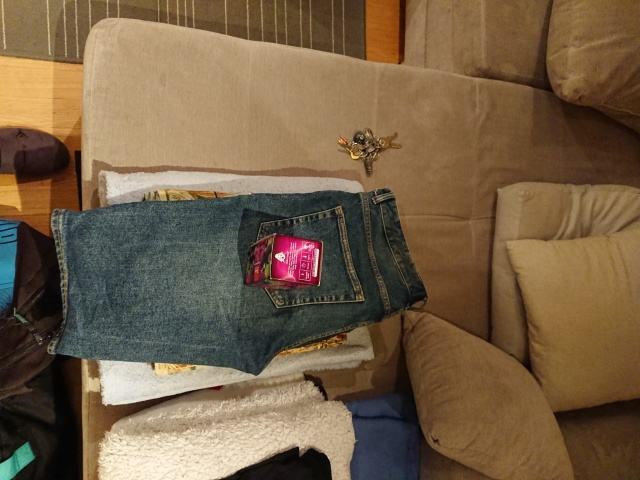Franck Black Currant Tea 60g: (241, 231, 326, 292)
